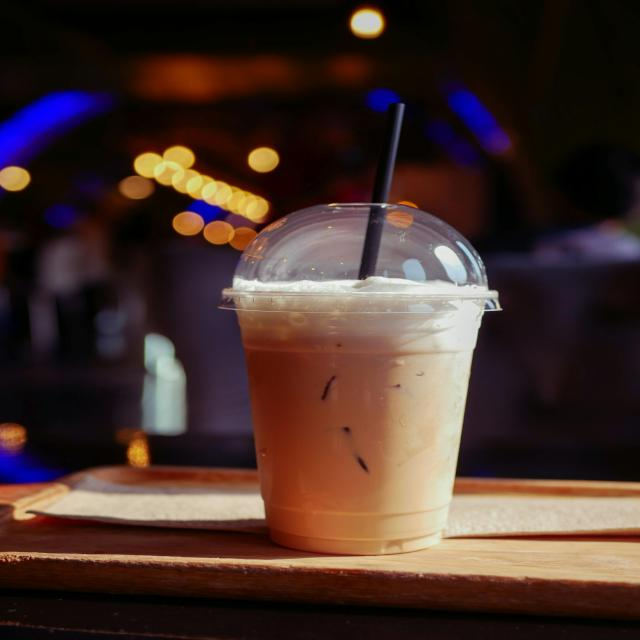cup: (221, 202, 503, 559)
